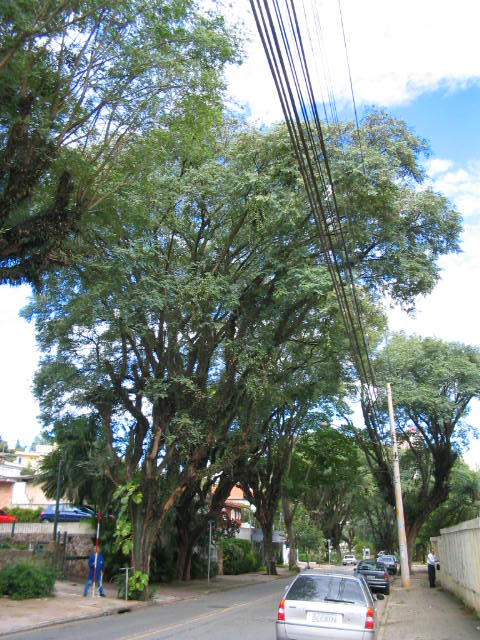crown: (51, 154, 460, 463)
stem: (119, 500, 169, 601)
stick: (89, 508, 103, 600)
tree: (47, 150, 463, 600)
